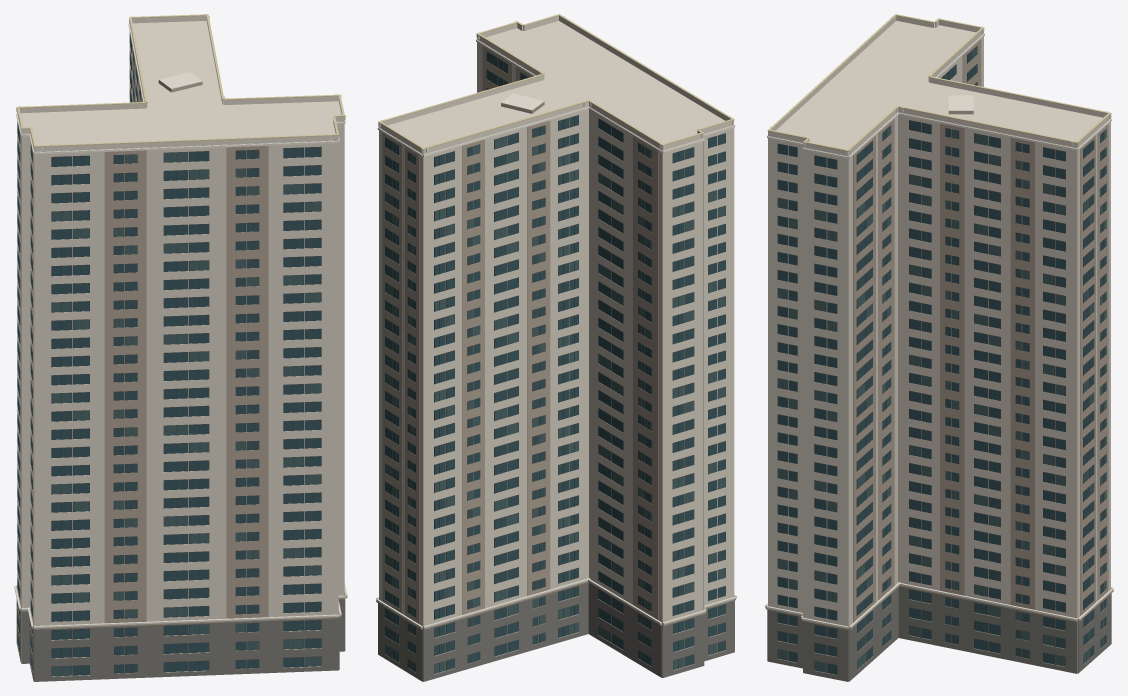
The model's file is bespoke-raemian-prestige-118.glb.
The picture shows the model from 3 angles, left to right: view 1: azimuth 30°, elevation 25°; view 2: azimuth 150°, elevation 25°; view 3: azimuth 270°, elevation 25°; orthographic projection.
Parts seen in each view (by area): view 1: Prestige_warm_ivory_rendered_wall004, Prestige_recessed_blue_green_window004, Prestige_wide_taupe_pilasters004, Prestige_dark_bronze_thin_window_frame004, Prestige_dark_brown_grey_stone_base004, Prestige_muted_green_window_pair004, Prestige_pale_limestone_band004, Prestige_cream_gold_crown_coping004; view 2: Prestige_warm_ivory_rendered_wall004, Prestige_recessed_blue_green_window004, Prestige_wide_taupe_pilasters004, Prestige_dark_bronze_thin_window_frame004, Prestige_dark_brown_grey_stone_base004, Prestige_muted_green_window_pair004, Prestige_pale_limestone_band004, Prestige_cream_gold_crown_coping004; view 3: Prestige_warm_ivory_rendered_wall004, Prestige_wide_taupe_pilasters004, Prestige_recessed_blue_green_window004, Prestige_dark_bronze_thin_window_frame004, Prestige_dark_brown_grey_stone_base004, Prestige_muted_green_window_pair004, Prestige_pale_limestone_band004, Prestige_cream_gold_crown_coping004.
Boxes of the visible parts, x1,y1,x2,y2 form: Prestige_warm_ivory_rendered_wall004: (17,16,344,676); Prestige_recessed_blue_green_window004: (17,34,321,675); Prestige_wide_taupe_pilasters004: (16,50,347,673); Prestige_dark_bronze_thin_window_frame004: (17,34,321,676); Prestige_dark_brown_grey_stone_base004: (16,588,345,681); Prestige_muted_green_window_pair004: (17,56,321,676); Prestige_pale_limestone_band004: (14,18,347,628); Prestige_cream_gold_crown_coping004: (16,14,345,147); Prestige_warm_ivory_rendered_wall004: (379,16,734,681); Prestige_recessed_blue_green_window004: (385,52,725,671); Prestige_wide_taupe_pilasters004: (376,46,736,672); Prestige_dark_bronze_thin_window_frame004: (385,51,725,672); Prestige_dark_brown_grey_stone_base004: (378,582,734,681); Prestige_muted_green_window_pair004: (385,76,725,673); Prestige_pale_limestone_band004: (376,35,736,628); Prestige_cream_gold_crown_coping004: (378,14,734,149); Prestige_warm_ivory_rendered_wall004: (768,16,1110,681); Prestige_wide_taupe_pilasters004: (765,39,1113,670); Prestige_recessed_blue_green_window004: (778,52,1106,674); Prestige_dark_bronze_thin_window_frame004: (777,45,1106,674); Prestige_dark_brown_grey_stone_base004: (767,586,1111,681); Prestige_muted_green_window_pair004: (778,46,1106,672); Prestige_pale_limestone_band004: (765,27,1113,628); Prestige_cream_gold_crown_coping004: (767,14,1111,151).
Bounding box in the file's own units: 46.08 × 82.1 × 48.86.
